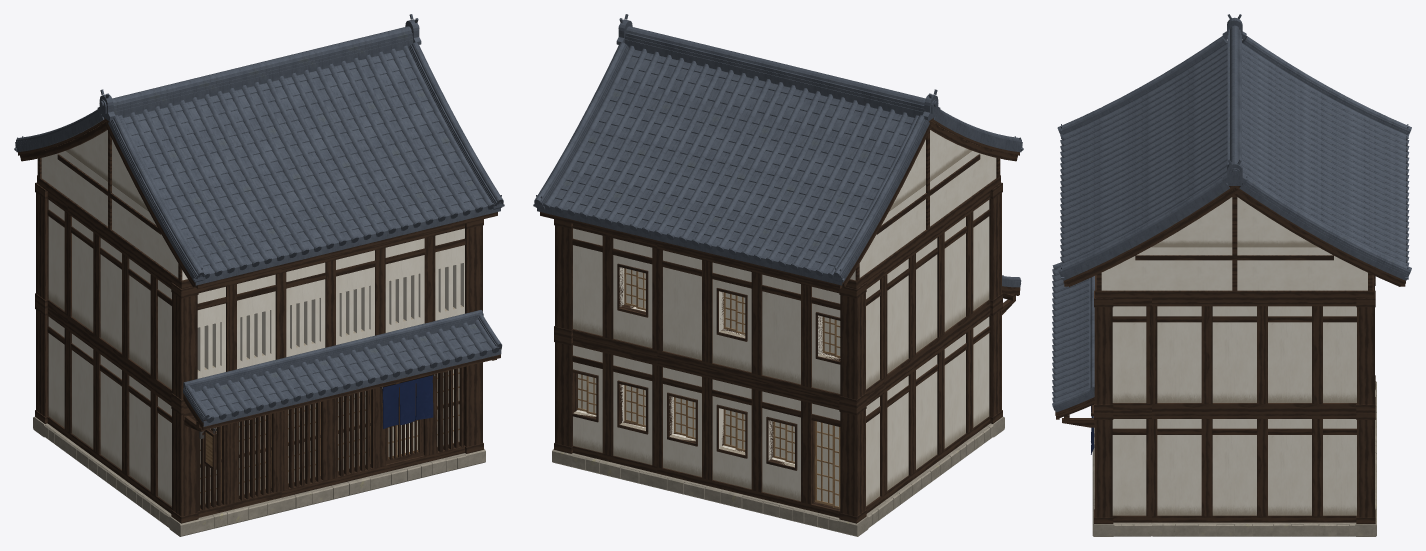
The model's file is HO_Bldg_Machiya_E.fbx.
The picture shows the model from 3 angles, left to right: view 1: azimuth 30°, elevation 25°; view 2: azimuth 150°, elevation 25°; view 3: azimuth 270°, elevation 25°; orthographic projection. The views are drawn at different scales.
Parts seen in each view (by area): view 1: HO_Bldg_Machiya_E_RoofTiles, HO_Bldg_Machiya_E_Structure__Timber_Dark, HO_Bldg_Machiya_E_Structure__Plaster_White, HO_Bldg_Machiya_E_Front__RoofTile_Clay, HO_Bldg_Machiya_E_Structure__Stone_Granite, HO_Bldg_Machiya_E_RoofFrame__Plaster_White, HO_Bldg_Machiya_E_RoofFrame__Timber_Dark, HO_Bldg_Machiya_E_Front__Cloth_Navy, HO_Bldg_Machiya_E_Front__Timber_Dark, HO_Bldg_Machiya_E_Structure__Shoji_Paper, HO_Bldg_Machiya_E_Door1__Timber_Dark; view 2: HO_Bldg_Machiya_E_RoofTiles, HO_Bldg_Machiya_E_Structure__Timber_Dark, HO_Bldg_Machiya_E_Structure__Plaster_White, HO_Bldg_Machiya_E_Structure__Stone_Granite, HO_Bldg_Machiya_E_RoofFrame__Plaster_White, HO_Bldg_Machiya_E_RoofFrame__Timber_Dark, HO_Bldg_Machiya_E_Structure__Shoji_Paper, HO_Bldg_Machiya_E_Structure__Timber_Light, HO_Bldg_Machiya_E_Door3__Shoji_Paper, HO_Bldg_Machiya_E_Door3__Timber_Light; view 3: HO_Bldg_Machiya_E_RoofTiles, HO_Bldg_Machiya_E_Structure__Plaster_White, HO_Bldg_Machiya_E_Structure__Timber_Dark, HO_Bldg_Machiya_E_RoofFrame__Plaster_White, HO_Bldg_Machiya_E_RoofFrame__Timber_Dark, HO_Bldg_Machiya_E_Front__RoofTile_Clay, HO_Bldg_Machiya_E_Structure__Stone_Granite, HO_Bldg_Machiya_E_Front__Timber_Dark.
Boxes of the visible parts, box(x1,y1,x2,y2) form: HO_Bldg_Machiya_E_RoofTiles: box(14, 14, 504, 285); HO_Bldg_Machiya_E_Structure__Timber_Dark: box(35, 182, 483, 523); HO_Bldg_Machiya_E_Structure__Plaster_White: box(48, 200, 464, 506); HO_Bldg_Machiya_E_Front__RoofTile_Clay: box(183, 310, 502, 426); HO_Bldg_Machiya_E_Structure__Stone_Granite: box(33, 416, 485, 536); HO_Bldg_Machiya_E_RoofFrame__Plaster_White: box(41, 130, 187, 280); HO_Bldg_Machiya_E_RoofFrame__Timber_Dark: box(18, 118, 497, 288); HO_Bldg_Machiya_E_Front__Cloth_Navy: box(382, 375, 433, 428); HO_Bldg_Machiya_E_Front__Timber_Dark: box(183, 348, 501, 469); HO_Bldg_Machiya_E_Structure__Shoji_Paper: box(200, 368, 459, 504); HO_Bldg_Machiya_E_Door1__Timber_Dark: box(385, 383, 423, 464); HO_Bldg_Machiya_E_RoofTiles: box(533, 14, 1023, 285); HO_Bldg_Machiya_E_Structure__Timber_Dark: box(554, 182, 1002, 523); HO_Bldg_Machiya_E_Structure__Plaster_White: box(573, 200, 989, 506); HO_Bldg_Machiya_E_Structure__Stone_Granite: box(552, 416, 1004, 536); HO_Bldg_Machiya_E_RoofFrame__Plaster_White: box(850, 130, 996, 280); HO_Bldg_Machiya_E_RoofFrame__Timber_Dark: box(540, 118, 1019, 288); HO_Bldg_Machiya_E_Structure__Shoji_Paper: box(578, 268, 840, 461); HO_Bldg_Machiya_E_Structure__Timber_Light: box(577, 268, 840, 463); HO_Bldg_Machiya_E_Door3__Shoji_Paper: box(817, 421, 832, 503); HO_Bldg_Machiya_E_Door3__Timber_Light: box(814, 421, 832, 505); HO_Bldg_Machiya_E_RoofTiles: box(1057, 14, 1411, 280); HO_Bldg_Machiya_E_Structure__Plaster_White: box(1112, 306, 1356, 515); HO_Bldg_Machiya_E_Structure__Timber_Dark: box(1094, 276, 1375, 523); HO_Bldg_Machiya_E_RoofFrame__Plaster_White: box(1101, 197, 1367, 290); HO_Bldg_Machiya_E_RoofFrame__Timber_Dark: box(1063, 186, 1405, 298); HO_Bldg_Machiya_E_Front__RoofTile_Clay: box(1052, 262, 1094, 412); HO_Bldg_Machiya_E_Structure__Stone_Granite: box(1092, 381, 1376, 536); HO_Bldg_Machiya_E_Front__Timber_Dark: box(1055, 397, 1094, 427).
Size of the model in its own units: 25.54 by 30.22 by 26.07.
